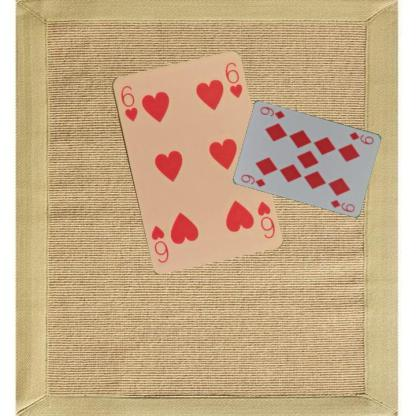6h: (254, 198, 276, 240), (118, 82, 139, 122)
9d: (347, 128, 375, 146), (239, 172, 267, 188)
